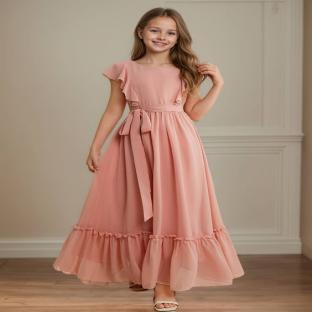Human: (54, 8, 244, 312)
